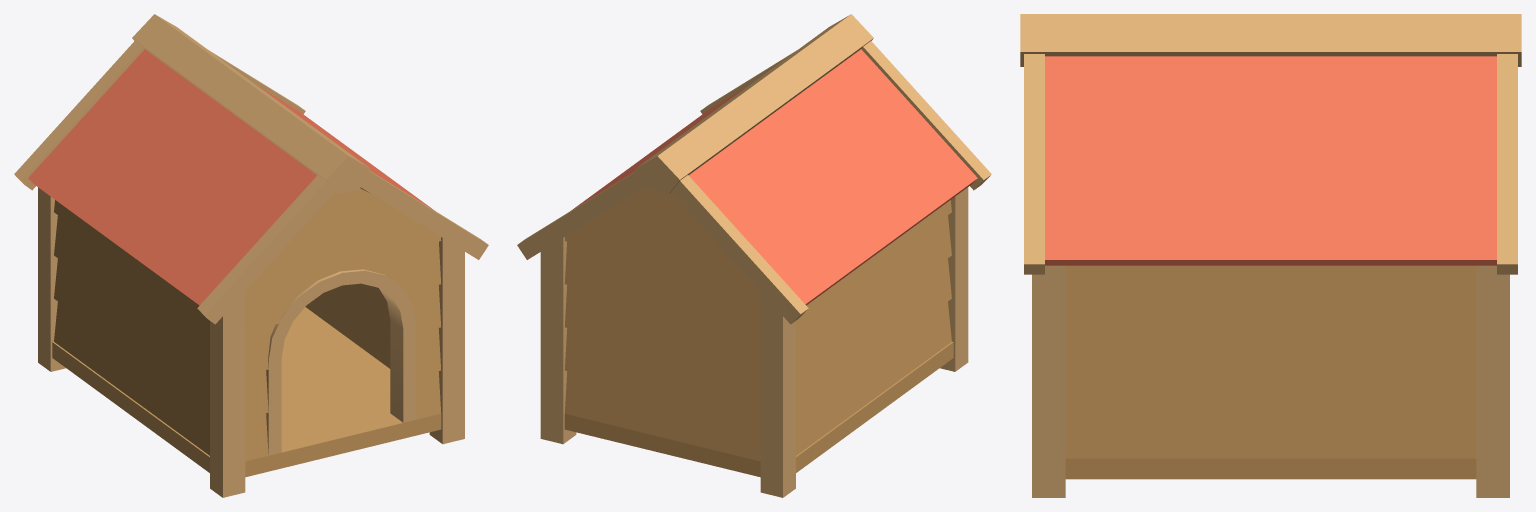
Rendered from Kennel_01.fbx.
3 views of the same model, side by side, from view 1: azimuth 30°, elevation 25°; view 2: azimuth 150°, elevation 25°; view 3: azimuth 270°, elevation 25° (orthographic). The views are drawn at different scales.
Parts seen in each view (by area): view 1: Kennel_01; view 2: Kennel_01; view 3: Kennel_01.
Part boxes in pixels (x1,y1,x2,y2): Kennel_01: [14, 14, 488, 497]; Kennel_01: [517, 14, 991, 497]; Kennel_01: [1020, 14, 1521, 497].
Bounding box in the file's own units: 3.57 × 3.79 × 4.23.
